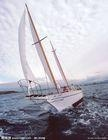fanchuan: (12, 1, 86, 113)
